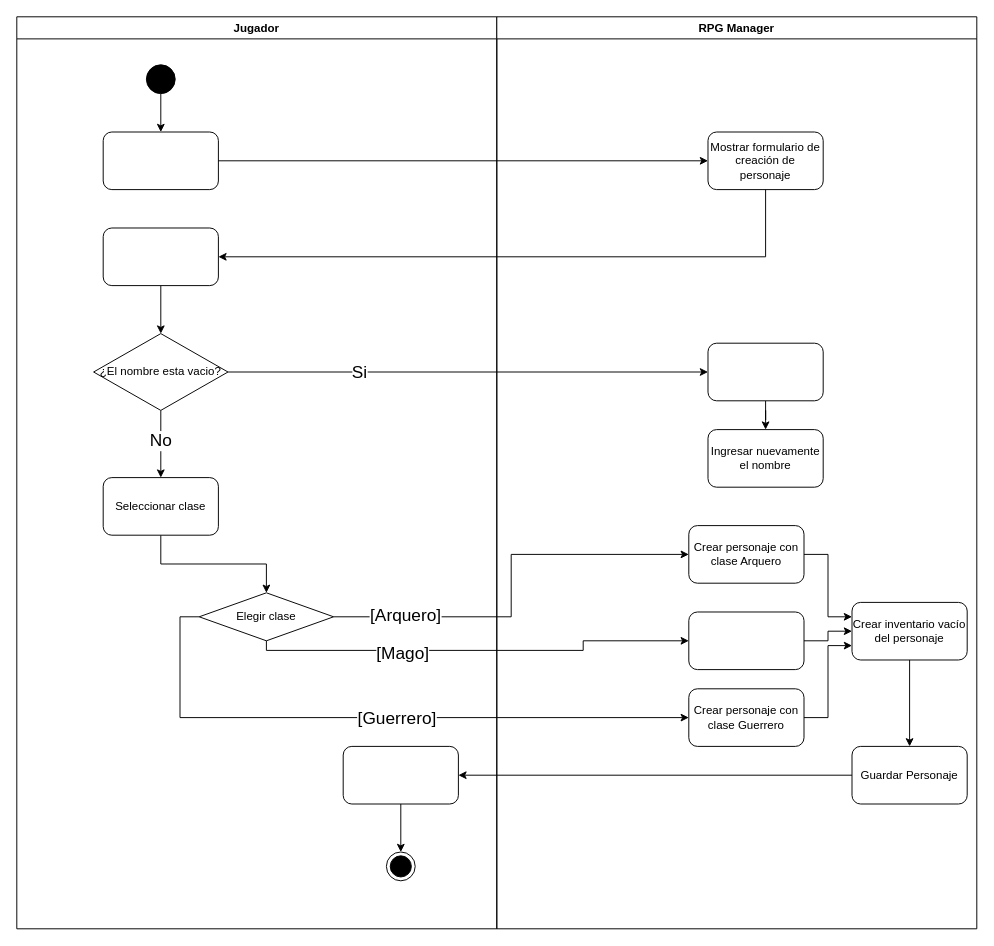
The diagram is 994 pixels wide and 946 high, and some of its shapes have lost their labels. The shapes that lost their labels are listed below. From the top down, each one's centre as x and y in pixels, then its label:
[160,160]: Seleccionar opción Crear Personaje
[160,256]: Ingresar nombre del personaje
[765,371]: Mostrar mensaje "El nombre es obligatorio"
[746,640]: Crear personaje con clase Mago
[400,774]: Mostrar confirmación de personaje creado
